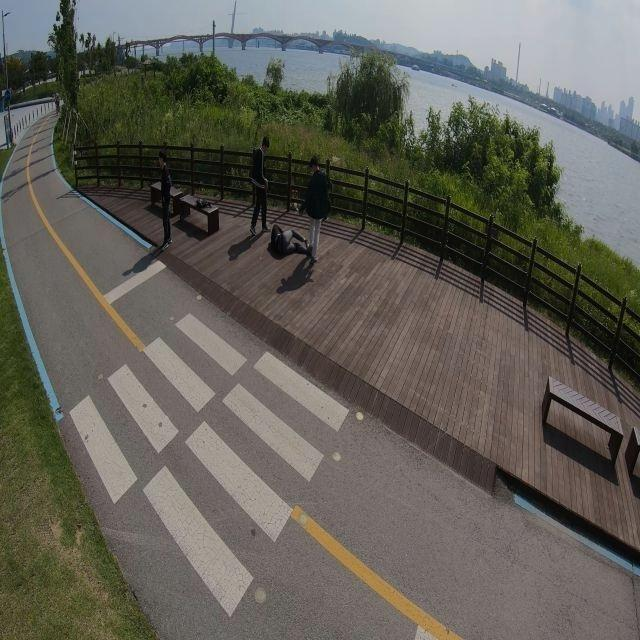fight: (300, 154, 334, 264), (248, 136, 272, 235)
non-fight: (152, 150, 178, 249), (265, 222, 313, 262)
